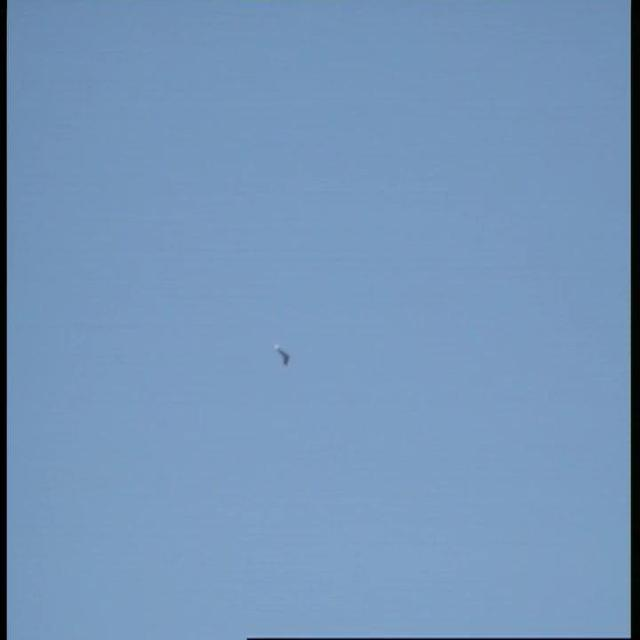drone: (272, 338, 294, 369)
